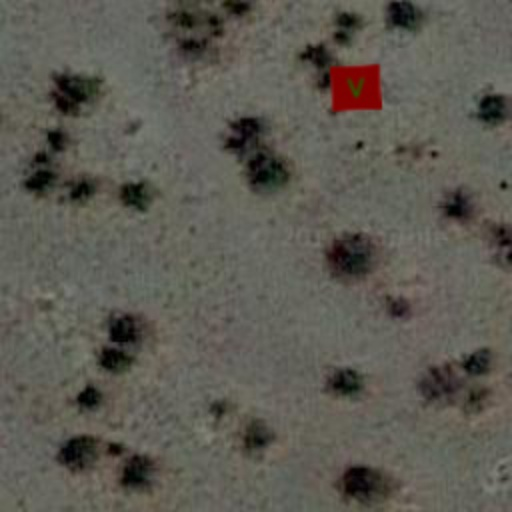rectangle: (330, 62, 382, 114)
